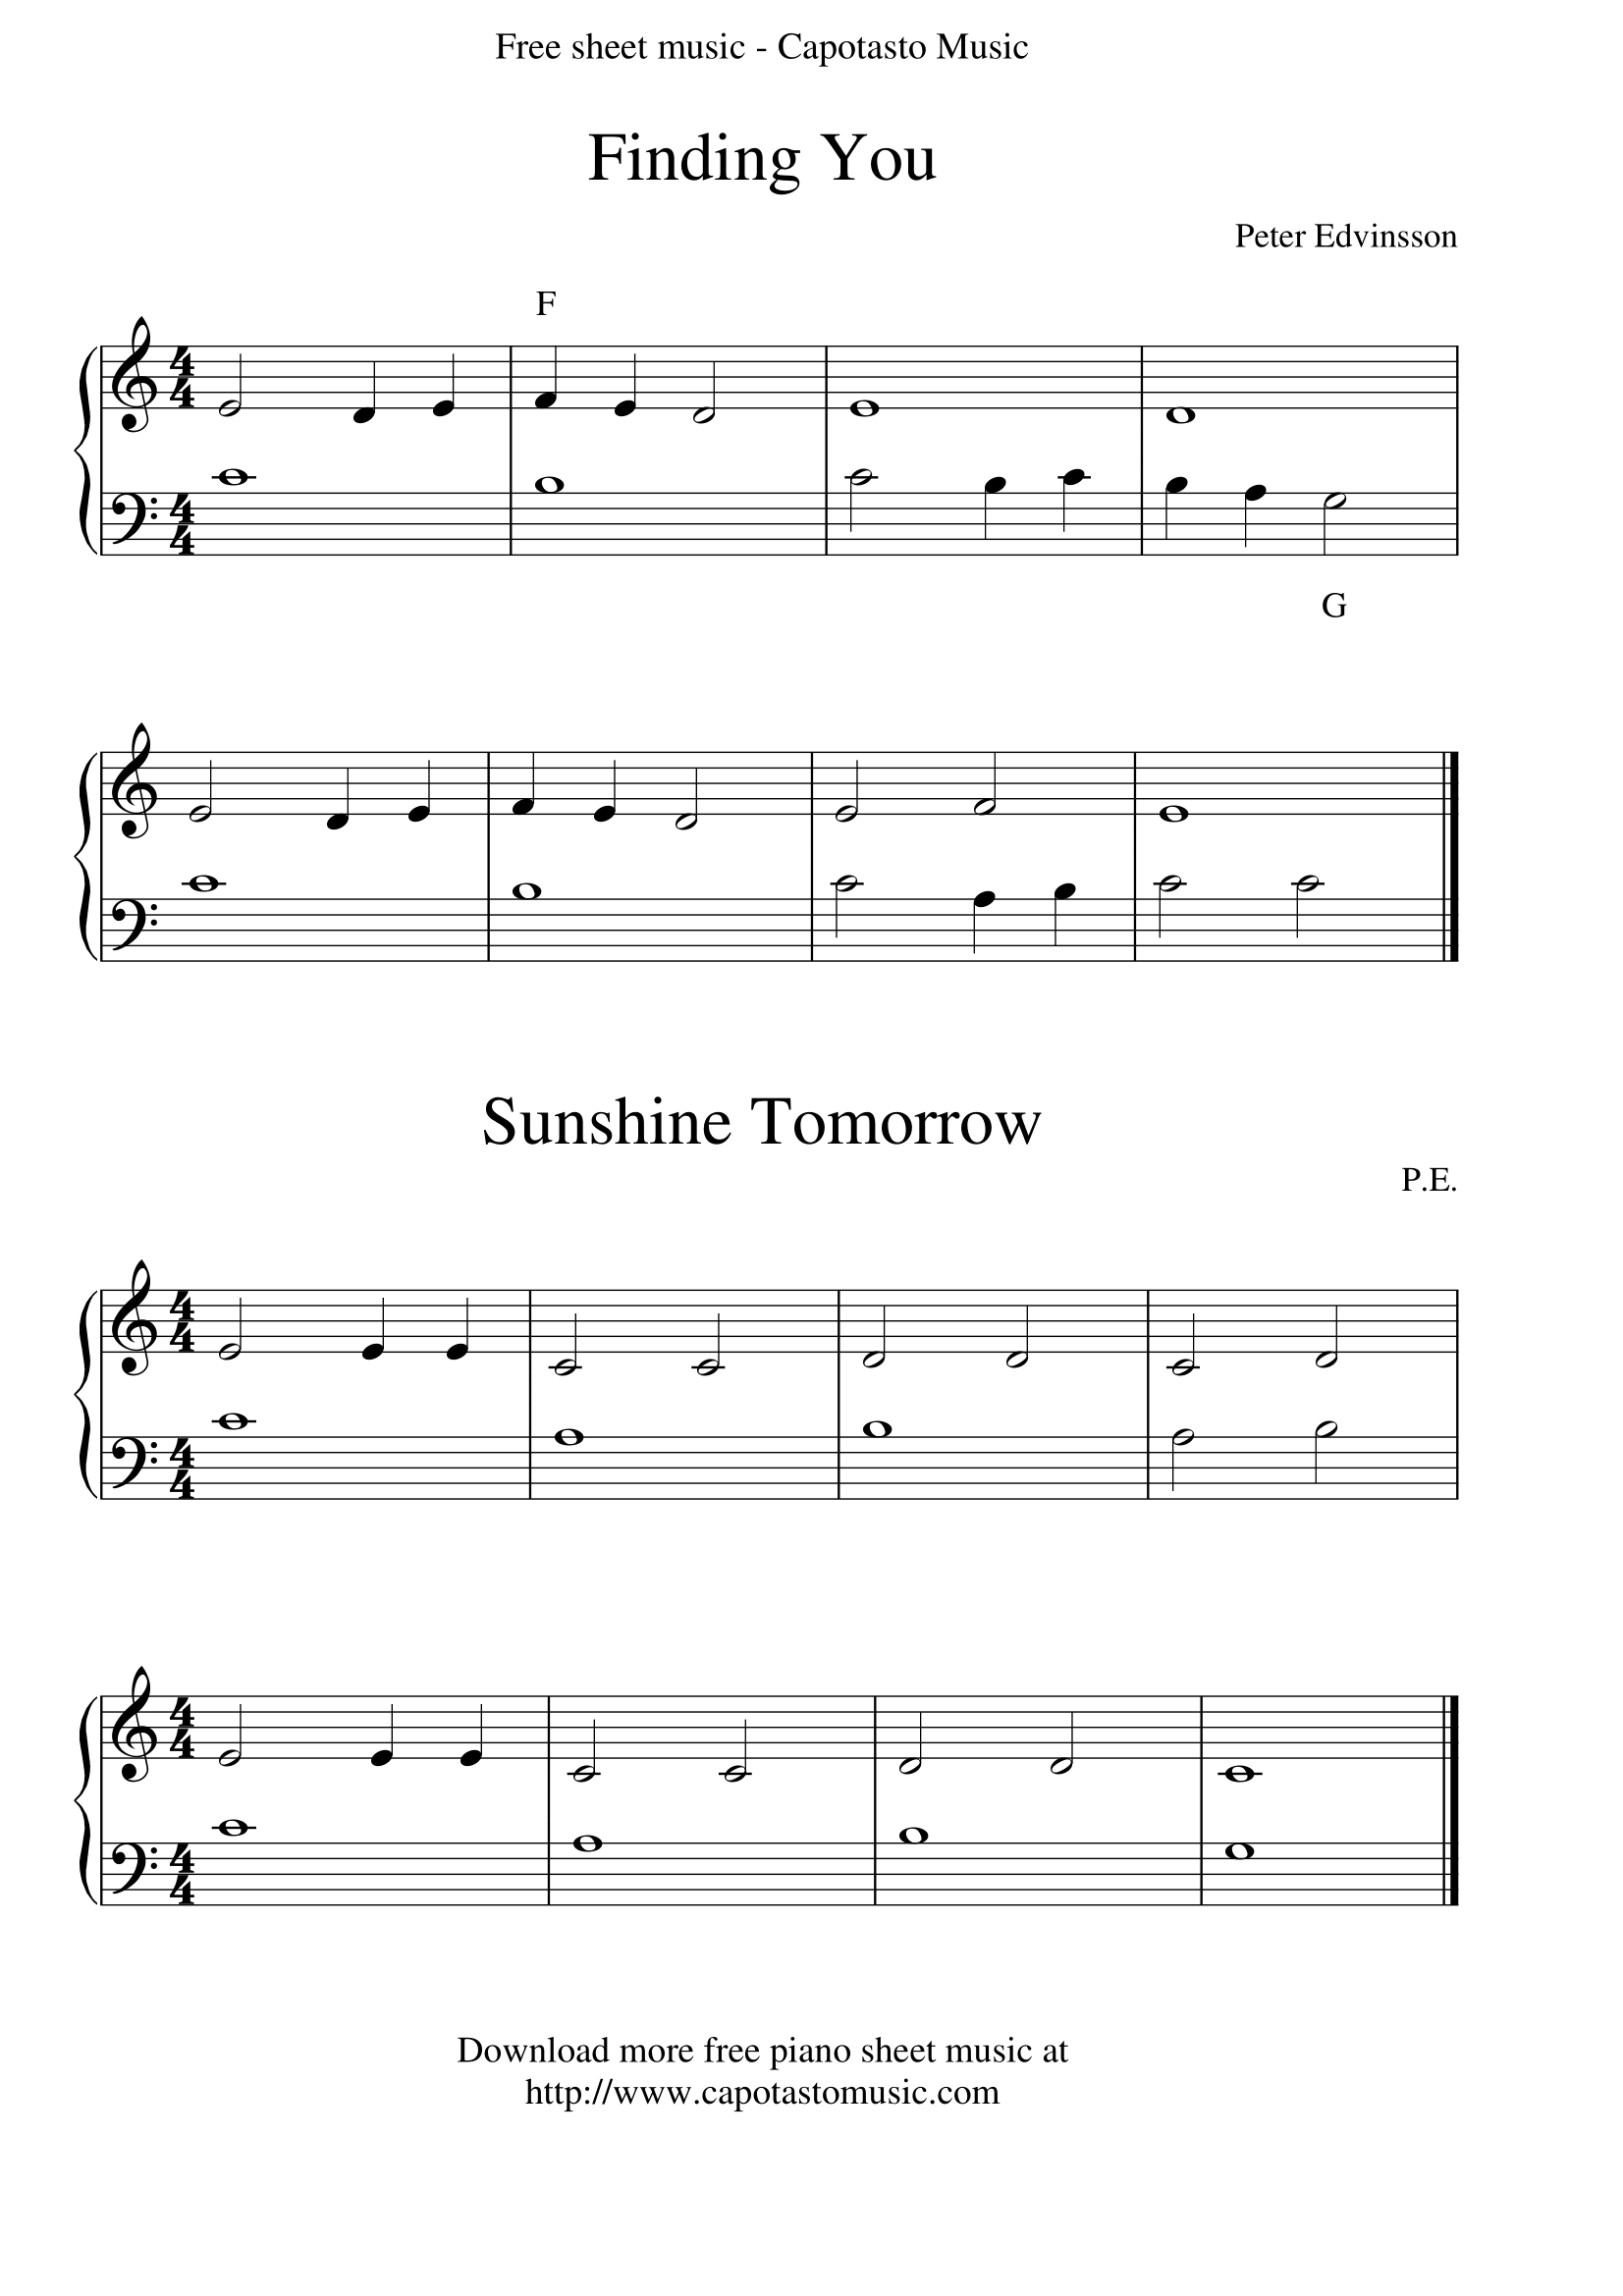half: (559, 1701, 622, 1797), (682, 1288, 741, 1390), (1277, 865, 1335, 969), (1036, 1697, 1100, 1792), (885, 1694, 941, 1797), (1305, 1287, 1363, 1387), (994, 1288, 1052, 1387), (710, 1694, 768, 1792), (831, 465, 894, 555), (1300, 1406, 1360, 1497), (206, 1694, 265, 1783), (666, 748, 717, 850), (685, 346, 738, 444), (209, 342, 263, 437), (811, 874, 868, 965), (1143, 867, 1194, 964), (970, 751, 1022, 843), (1166, 1292, 1214, 1387), (855, 1295, 901, 1390), (548, 1292, 590, 1390), (177, 753, 227, 836), (216, 1292, 260, 1380), (1309, 491, 1363, 560), (836, 751, 875, 836), (1159, 1422, 1201, 1497)
quarter: (348, 1281, 409, 1387), (444, 1694, 508, 1796), (950, 874, 1013, 965), (355, 1694, 413, 1783), (602, 346, 655, 444), (1040, 874, 1096, 964), (1052, 462, 1103, 560), (320, 753, 371, 851), (504, 748, 555, 843), (339, 349, 393, 437), (402, 751, 446, 858), (587, 751, 638, 843), (966, 465, 1017, 555), (425, 342, 469, 446), (1147, 472, 1198, 551), (527, 346, 571, 434), (1233, 465, 1273, 555), (444, 1288, 481, 1380)
whole: (1210, 1694, 1277, 1797), (206, 456, 265, 560), (1156, 346, 1217, 446), (520, 462, 583, 555), (852, 1410, 917, 1497), (181, 865, 242, 957), (497, 878, 560, 965), (209, 1808, 265, 1903), (559, 1819, 622, 1903), (880, 1819, 945, 1896), (1217, 1819, 1270, 1910), (1151, 751, 1203, 839), (206, 1413, 260, 1496), (836, 349, 887, 430), (545, 1422, 594, 1497)
